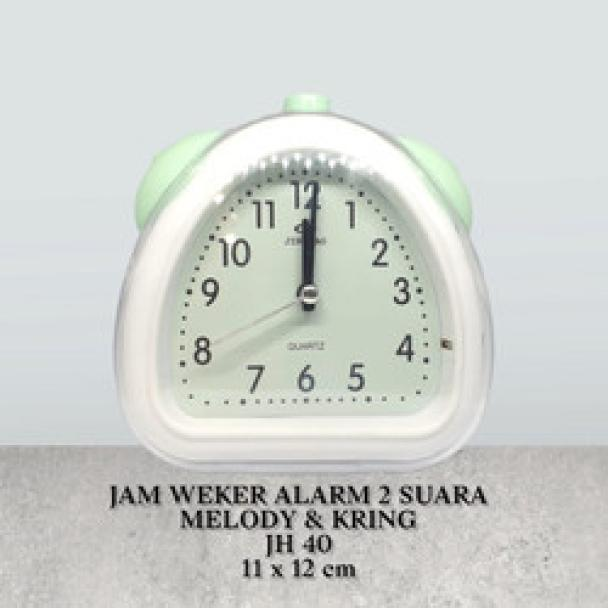Jam: (116, 109, 493, 472)
